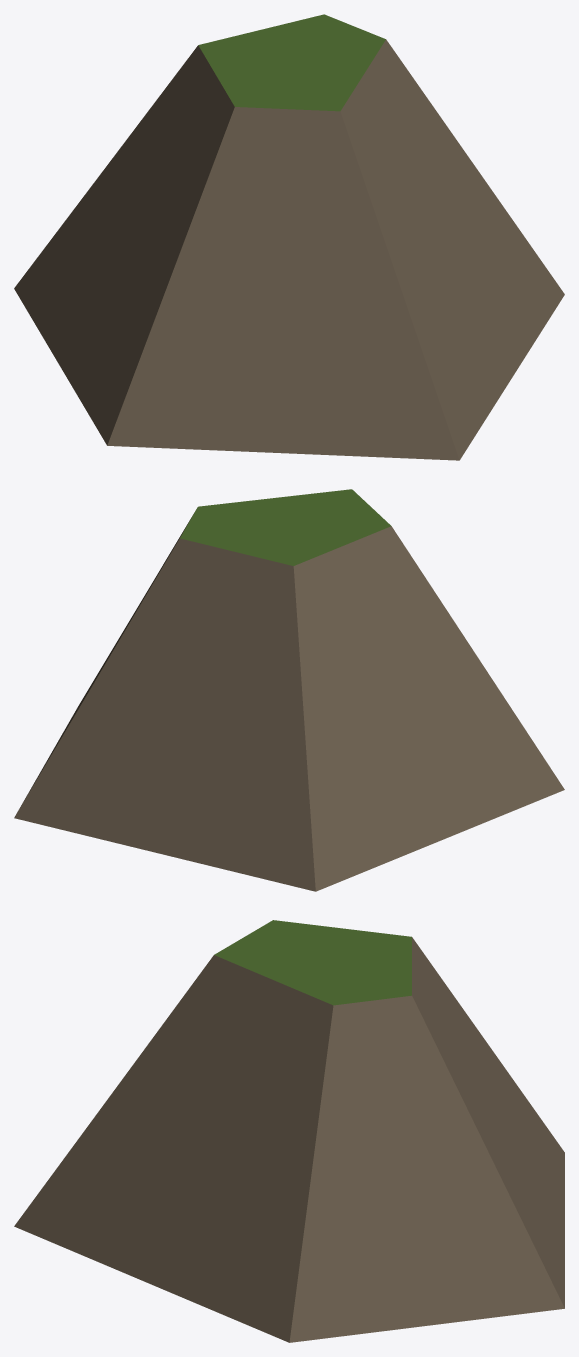
The model's file is rock_small_a.glb.
The picture shows the model from 3 angles, top to bottom: view 1: azimuth 30°, elevation 25°; view 2: azimuth 150°, elevation 25°; view 3: azimuth 270°, elevation 25°; orthographic projection. The views are drawn at different scales.
Parts seen in each view (by area): view 1: rock_smallA; view 2: rock_smallA; view 3: rock_smallA.
Boxes of the visible parts, box(x1,y1,x2,y2) form: rock_smallA: box(14, 14, 564, 460); rock_smallA: box(14, 489, 564, 891); rock_smallA: box(14, 920, 564, 1342).
Bounding box in the file's own units: 0.3608 × 0.1912 × 0.3608.
